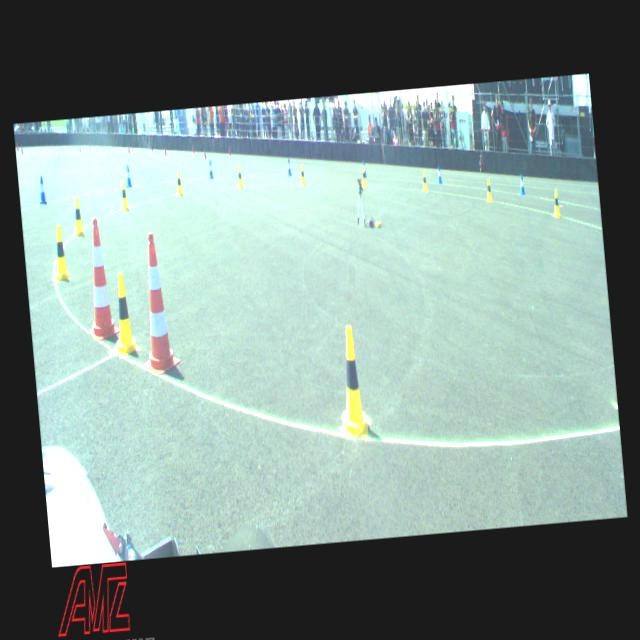blue_cone: (36, 175, 48, 204), (518, 174, 526, 195), (125, 164, 132, 187), (208, 159, 215, 179), (436, 164, 442, 183), (286, 158, 292, 176), (362, 160, 367, 177)
large_orange_cone: (132, 231, 180, 376), (78, 216, 120, 341)
yellow_cone: (333, 324, 369, 438), (108, 270, 140, 356), (51, 223, 70, 280), (70, 196, 84, 236), (118, 180, 130, 210), (549, 189, 560, 218), (174, 170, 184, 196), (484, 176, 492, 202), (235, 165, 243, 188), (298, 163, 306, 186), (420, 170, 428, 192), (360, 165, 366, 187)
